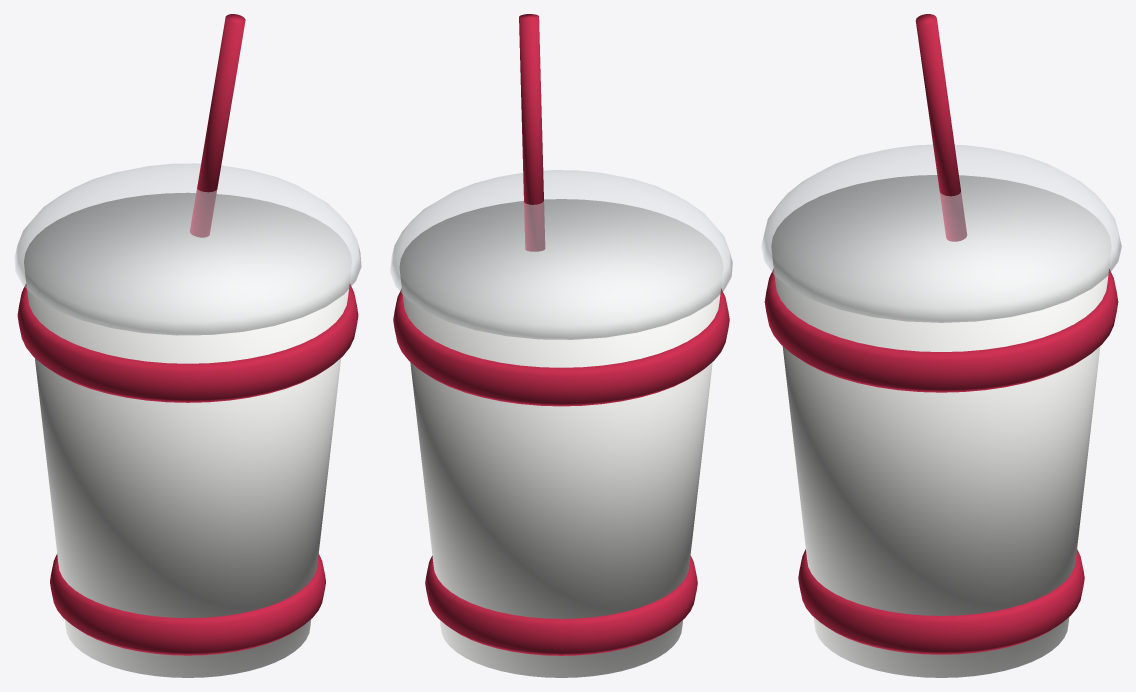
Rendered from drink.glb.
3 renders of one model, left to right at view 1: azimuth 30°, elevation 25°; view 2: azimuth 150°, elevation 25°; view 3: azimuth 270°, elevation 25°, orthographic. The views are drawn at different scales.
Parts seen in each view (by area): view 1: drink; view 2: drink; view 3: drink.
Boxes of the visible parts, left/top/right/bottom form: drink: left=14, top=14, right=361, bottom=677; drink: left=390, top=14, right=732, bottom=677; drink: left=761, top=14, right=1121, bottom=677.
Bounding box in the file's own units: 0.7102 × 1.36 × 0.7102.
